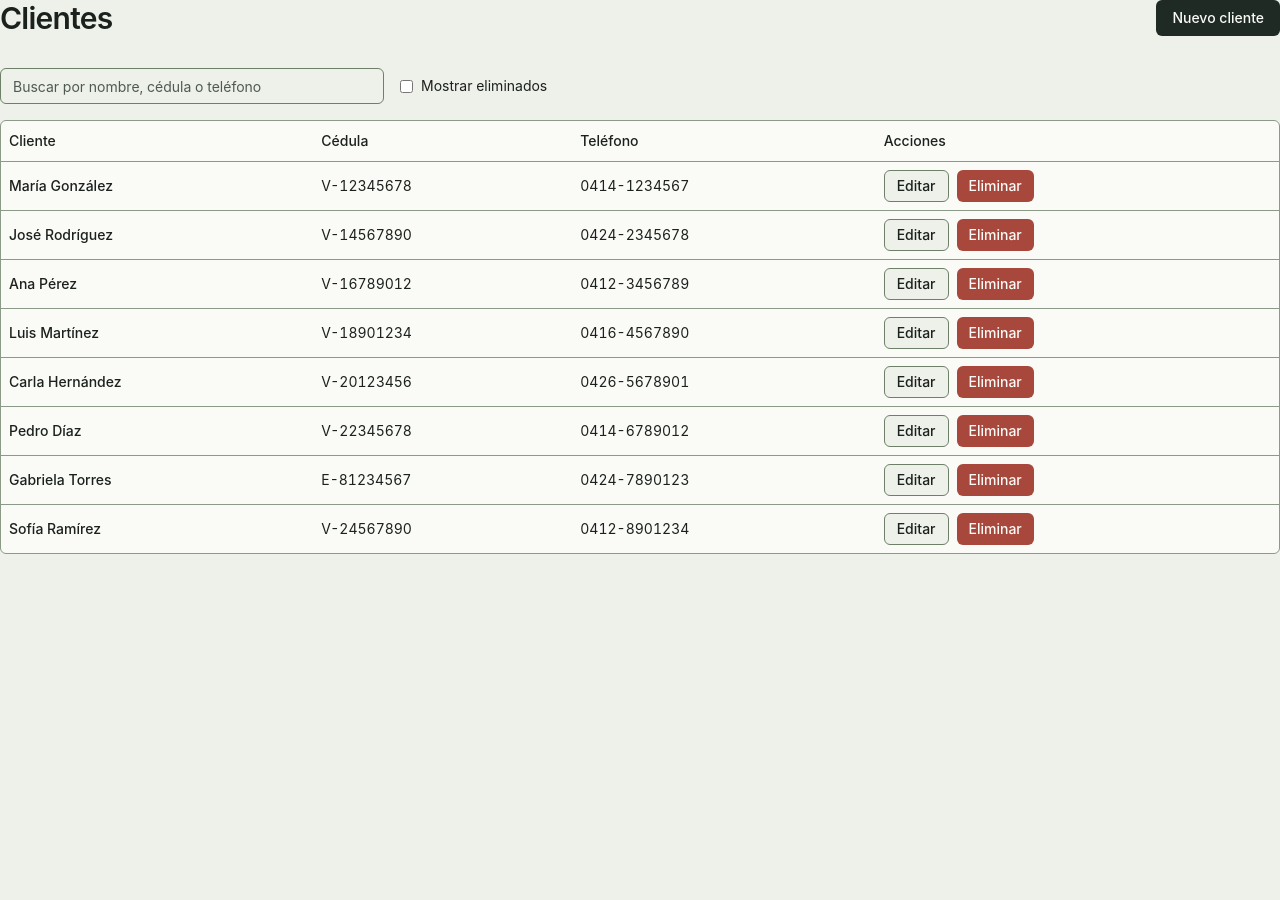
ClientsPage › con permiso de escritura permite crear un cliente desde el diálogo
Click the button "Nuevo cliente". click: (1218, 18)
box: [1156, 0, 1279, 36]
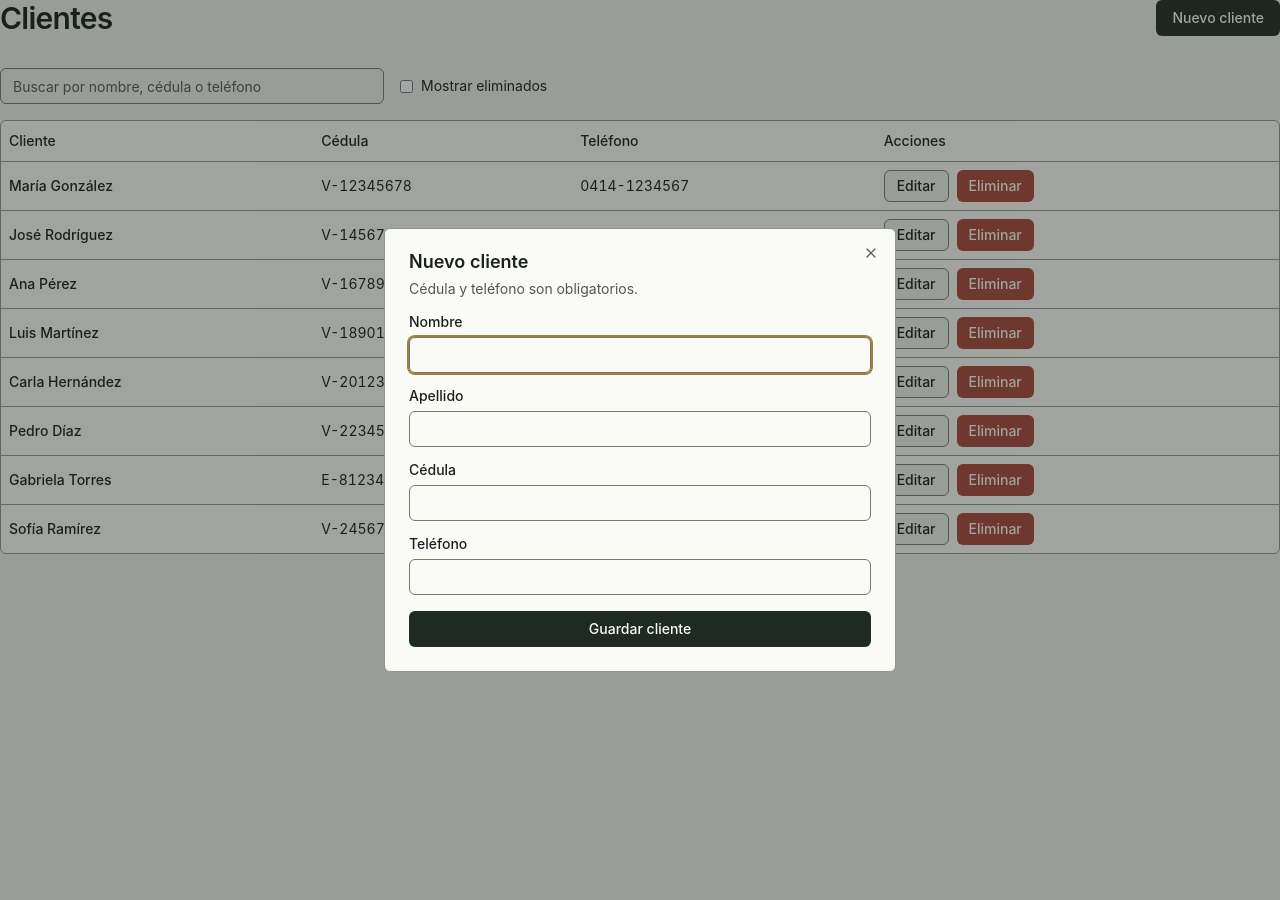
Type "Valentina" into the field labelled "Nombre". click: (640, 355)
box: [409, 337, 871, 373]
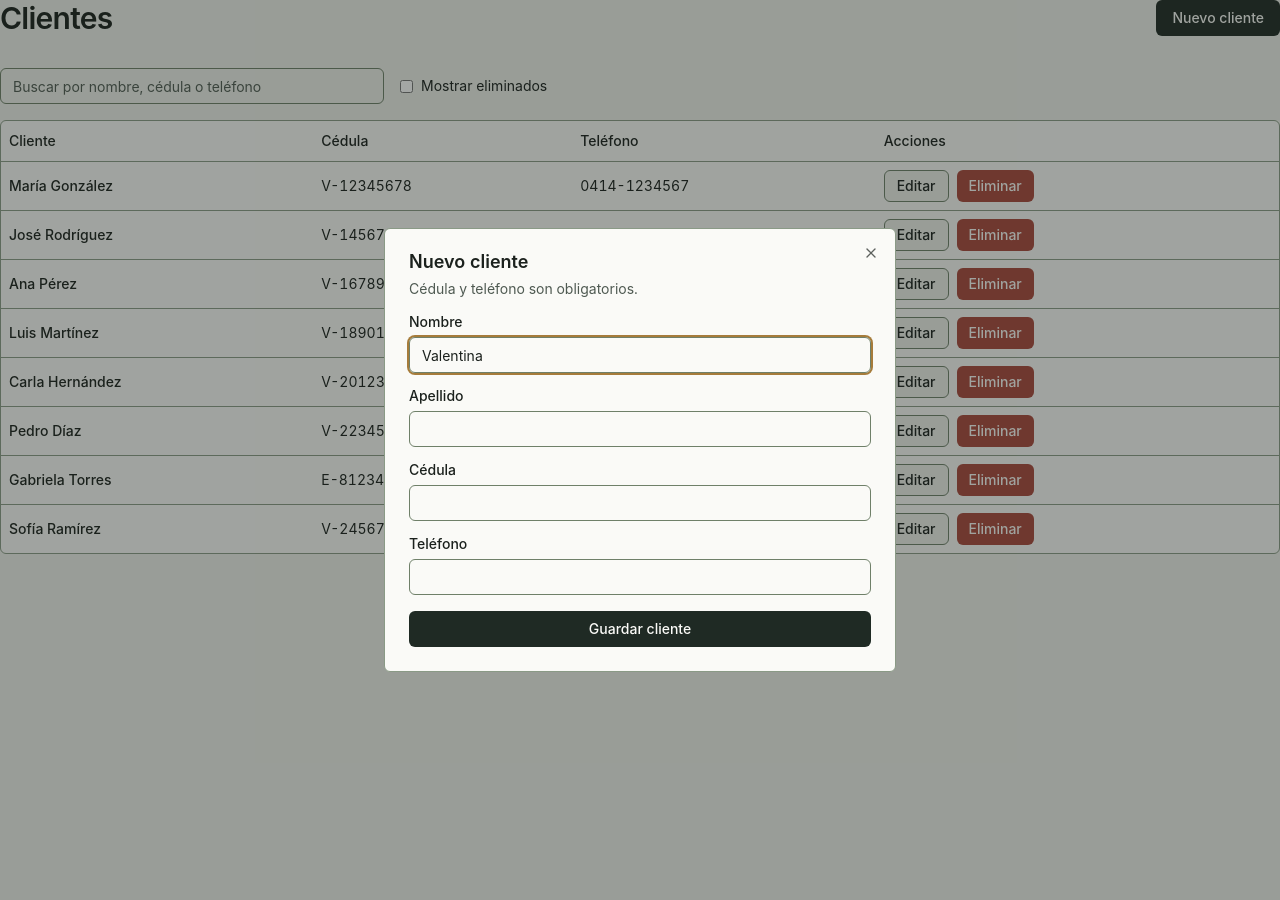
Type "Ríos" into the field labelled "Apellido". click: (640, 429)
box: [409, 411, 871, 447]
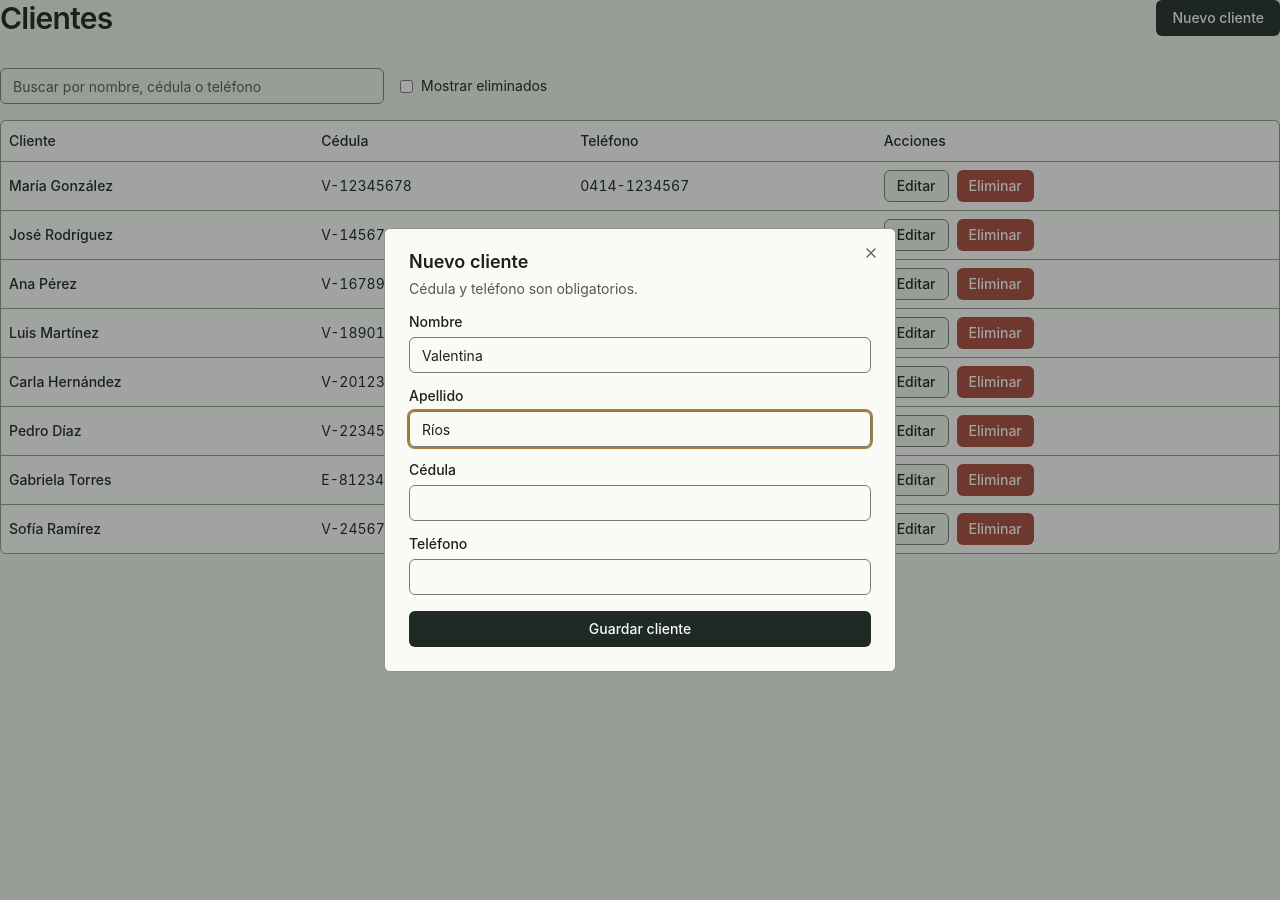
Type "V-30111222" into the field labelled "Cédula". click: (640, 503)
box: [409, 485, 871, 521]
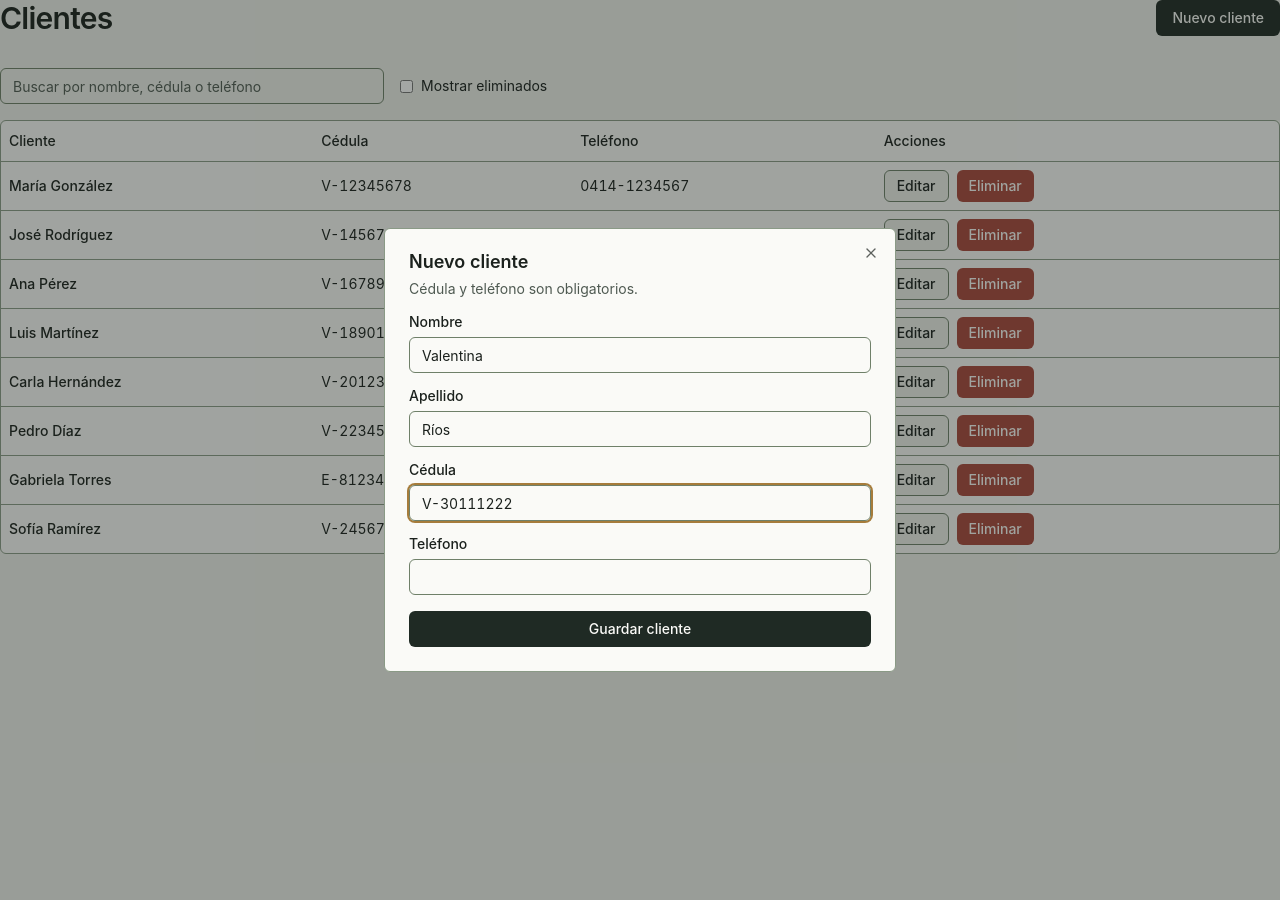
Type "0414-5550000" into the field labelled "Teléfono". click: (640, 577)
box: [409, 559, 871, 595]
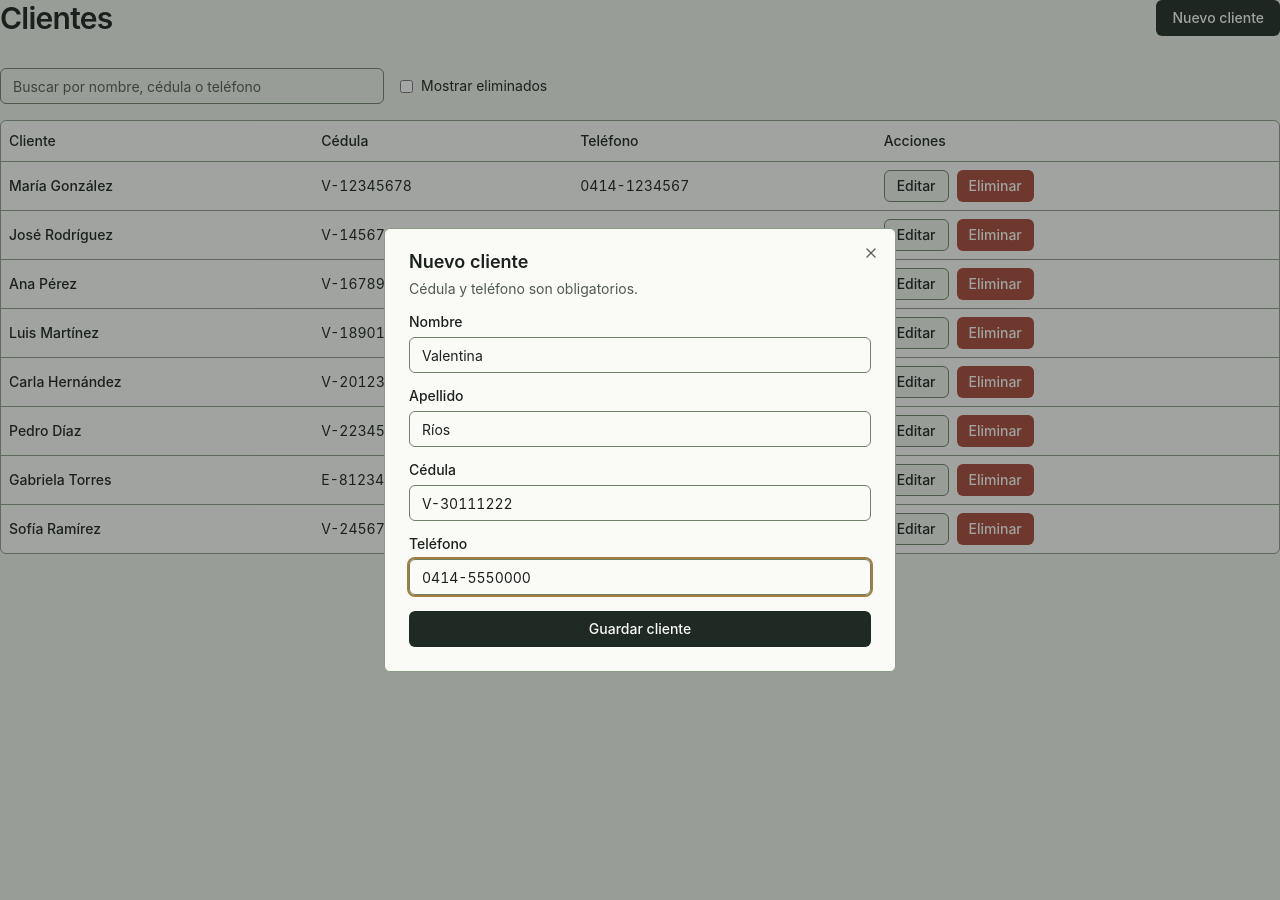
Click the button "Guardar cliente". click: (640, 629)
box: [409, 611, 871, 647]
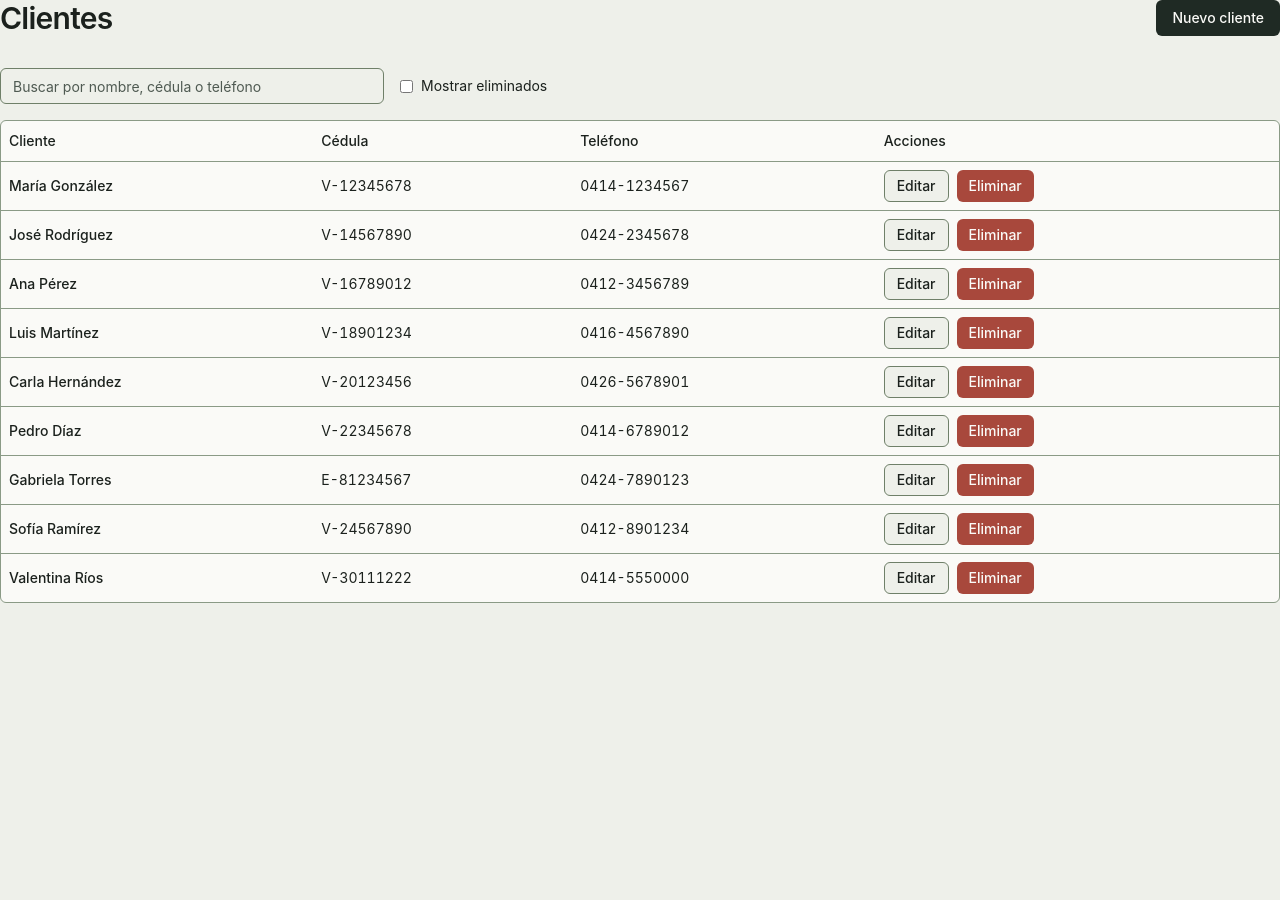
Result: the dialog is gone
Result: the link "Valentina Ríos" is shown at [9, 568, 103, 586]
